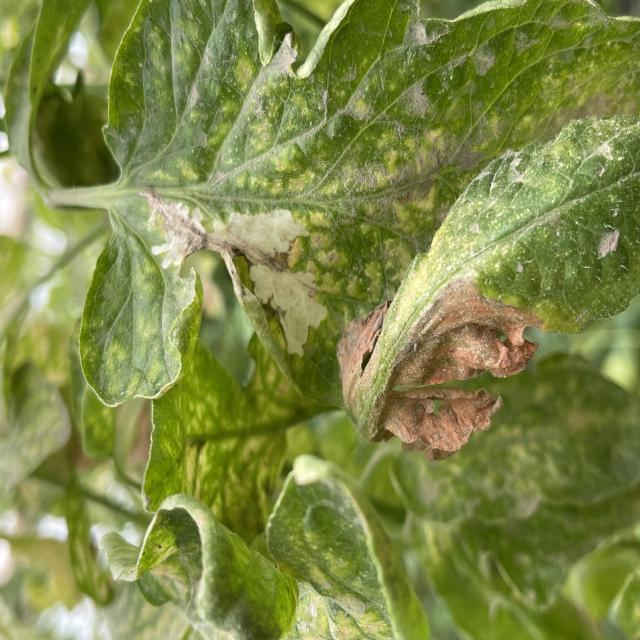Tuta absoluta: (213, 184, 360, 359), (139, 180, 213, 271)
